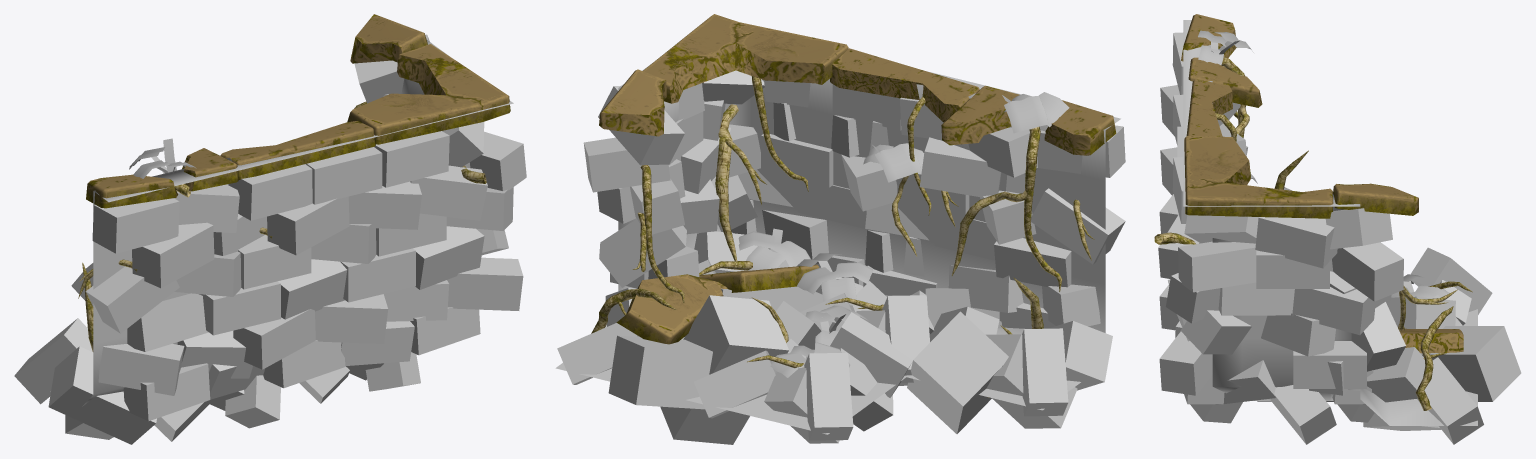
The model's file is Jungle_Pits.fbx.
The picture shows the model from 3 angles, left to right: view 1: azimuth 30°, elevation 25°; view 2: azimuth 150°, elevation 25°; view 3: azimuth 270°, elevation 25°; orthographic projection. The views are drawn at different scales.
Visible parts, largest first — view 1: Pit_Wall_B, Pit_Wall_A, Pit_Corner_Inner_A, Pit_Corner_Outer_A; view 2: Pit_Wall_B, Pit_Corner_Inner_A, Pit_Wall_A, Pit_Corner_Outer_A, Pit_A; view 3: Pit_Corner_Inner_A, Pit_Corner_Outer_A, Pit_Wall_B, Pit_A, Pit_Wall_A.
Part boxes in pixels (x1,y1,x2,y2): Pit_Wall_B: [14, 138, 280, 444]; Pit_Wall_A: [220, 121, 421, 428]; Pit_Corner_Inner_A: [347, 44, 526, 391]; Pit_Corner_Outer_A: [350, 14, 435, 108]; Pit_Wall_B: [907, 85, 1125, 433]; Pit_Corner_Inner_A: [597, 14, 848, 311]; Pit_Wall_A: [797, 48, 984, 385]; Pit_Corner_Outer_A: [555, 69, 727, 409]; Pit_A: [660, 295, 912, 444]; Pit_Corner_Inner_A: [1154, 136, 1375, 444]; Pit_Corner_Outer_A: [1309, 183, 1521, 444]; Pit_Wall_B: [1160, 14, 1308, 190]; Pit_A: [1363, 247, 1492, 430]; Pit_Wall_A: [1159, 79, 1257, 330].
Size of the model in its own units: 1008 by 691 by 747.
